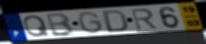6: (158, 6, 182, 30)
B: (46, 11, 76, 37)
D: (102, 9, 130, 34)
G: (77, 10, 106, 35)
Q: (23, 15, 52, 38)
R: (130, 8, 160, 31)
